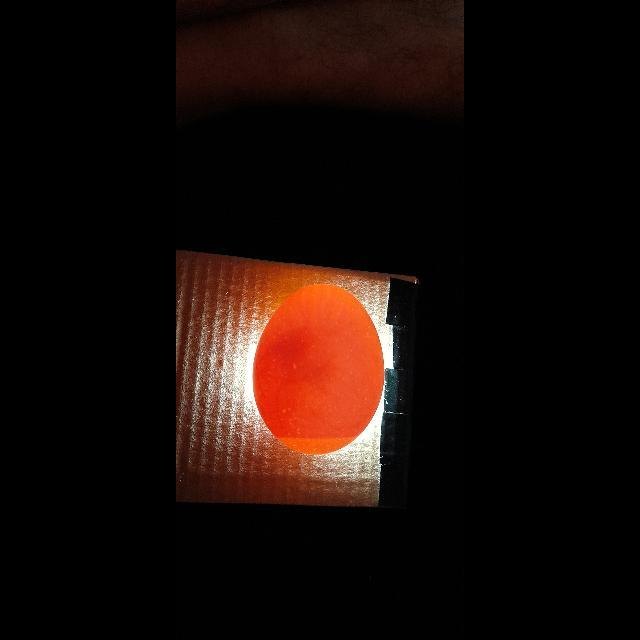Fertile: (252, 280, 386, 460)
